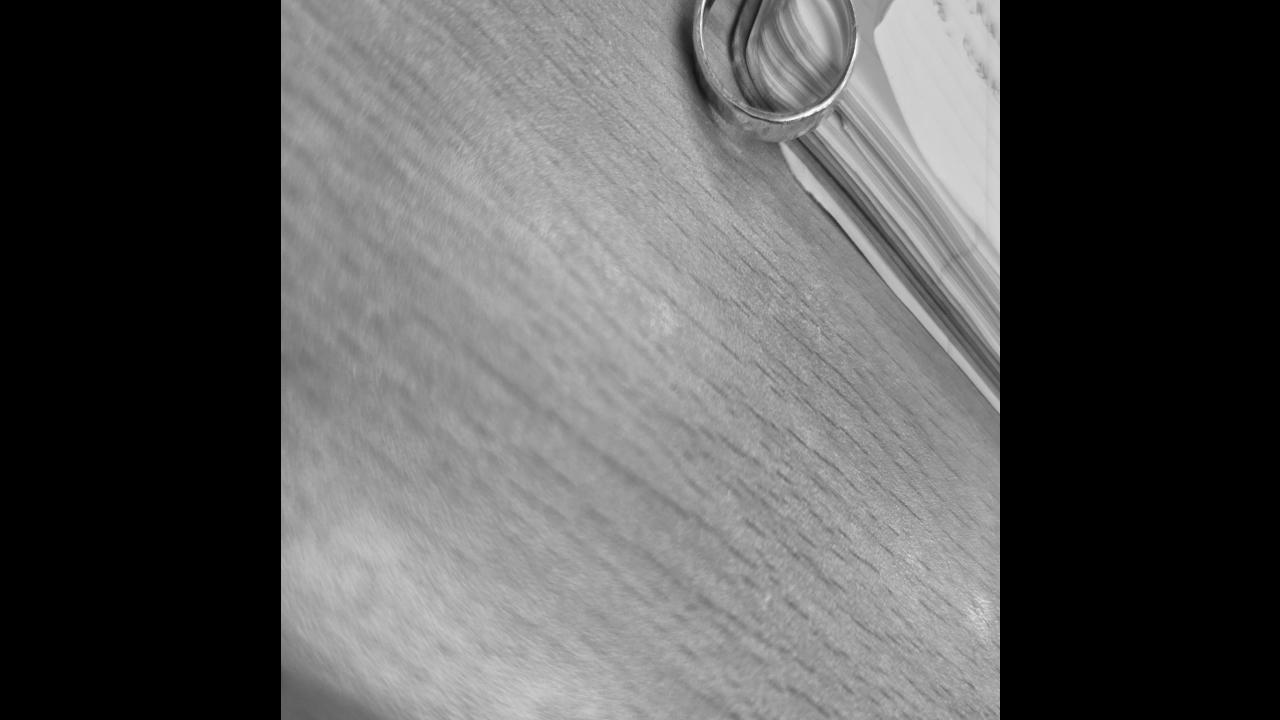ring: (688, 0, 857, 144)
